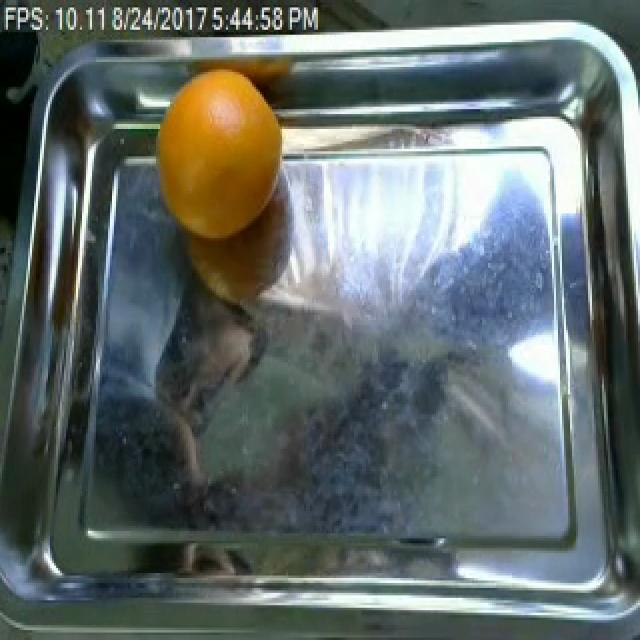Fruit: (150, 59, 288, 240)
